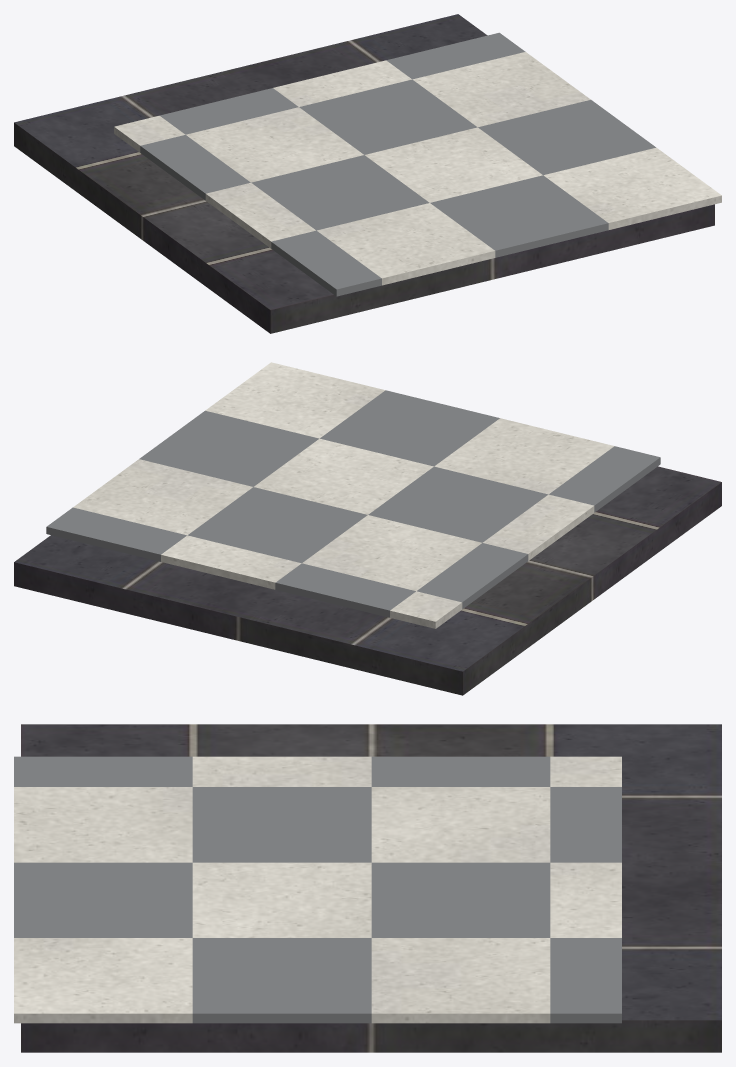
File: floor_marble_g_e1010.glb
3 renders of one model, top to bottom at view 1: azimuth 30°, elevation 25°; view 2: azimuth 150°, elevation 25°; view 3: azimuth 270°, elevation 25°, orthographic. The views are drawn at different scales.
Visible parts, largest first — view 1: floor_marble_g_e1010_marble, floor_marble_g_e1010_slate, floor_marble_g_e1010_plinth; view 2: floor_marble_g_e1010_plinth, floor_marble_g_e1010_marble, floor_marble_g_e1010_slate; view 3: floor_marble_g_e1010_marble, floor_marble_g_e1010_slate, floor_marble_g_e1010_plinth.
Part boxes in pixels (bbox=[...]): floor_marble_g_e1010_marble: bbox=[114, 52, 721, 285]; floor_marble_g_e1010_slate: bbox=[140, 32, 655, 296]; floor_marble_g_e1010_plinth: bbox=[14, 14, 714, 333]; floor_marble_g_e1010_plinth: bbox=[14, 466, 721, 695]; floor_marble_g_e1010_marble: bbox=[73, 362, 614, 628]; floor_marble_g_e1010_slate: bbox=[46, 390, 660, 617]; floor_marble_g_e1010_marble: bbox=[14, 756, 621, 1023]; floor_marble_g_e1010_slate: bbox=[14, 756, 621, 1023]; floor_marble_g_e1010_plinth: bbox=[21, 724, 721, 1052].
Size of the model in its own units: 1.98 by 0.13 by 1.98.
Materials: 3 (2 with a texture image).
